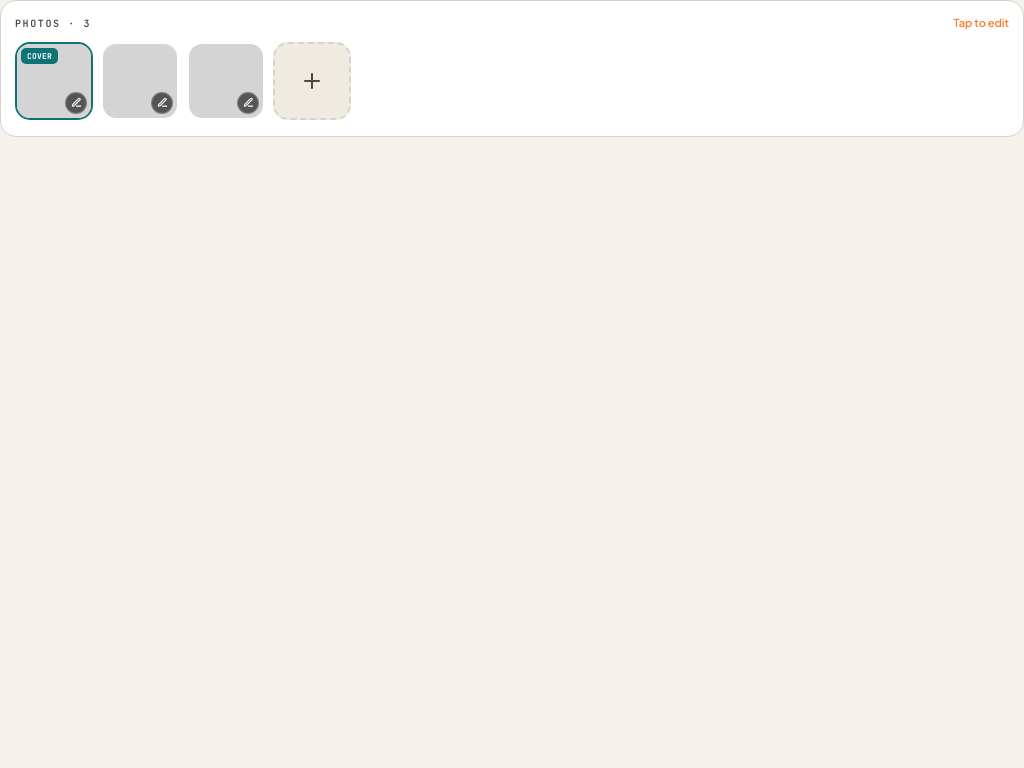
Test case: PhotoGalleryStrip › add tile opens the capture sheet (camera + gallery), not a bare file picker
Click the button named "add photos" at (312, 80), box [273,42,351,120]
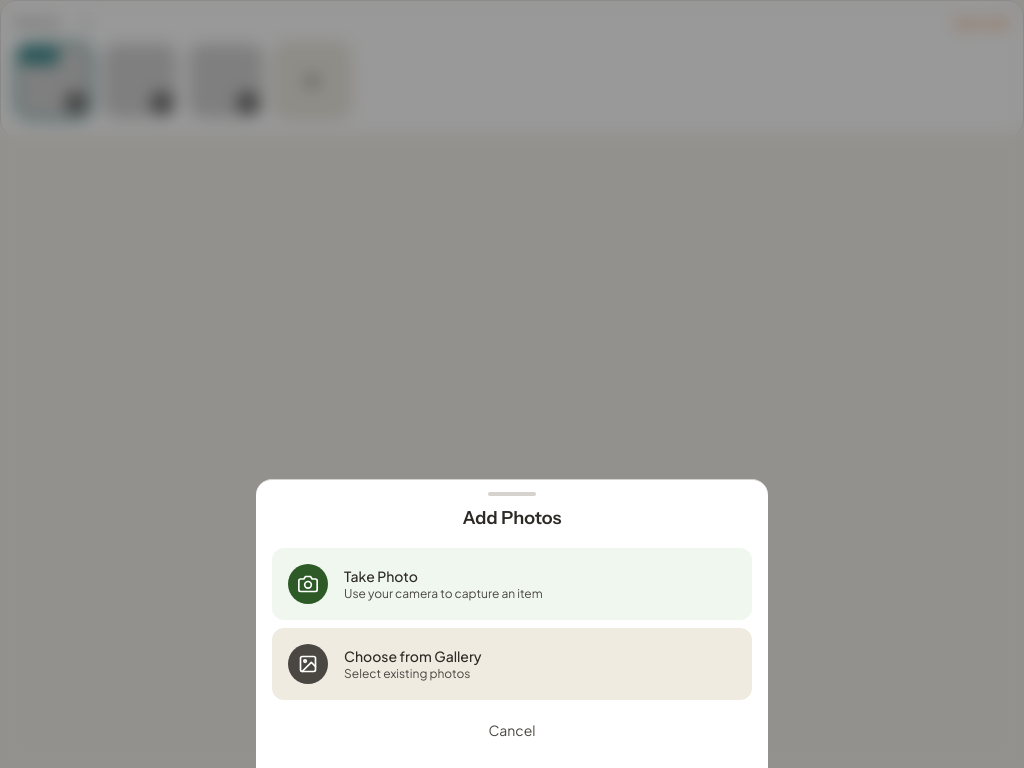
Expected: the heading "Add Photos" is shown, [463,507,561,529]
Expected: the text "Take Photo" is shown, [344,567,418,585]
